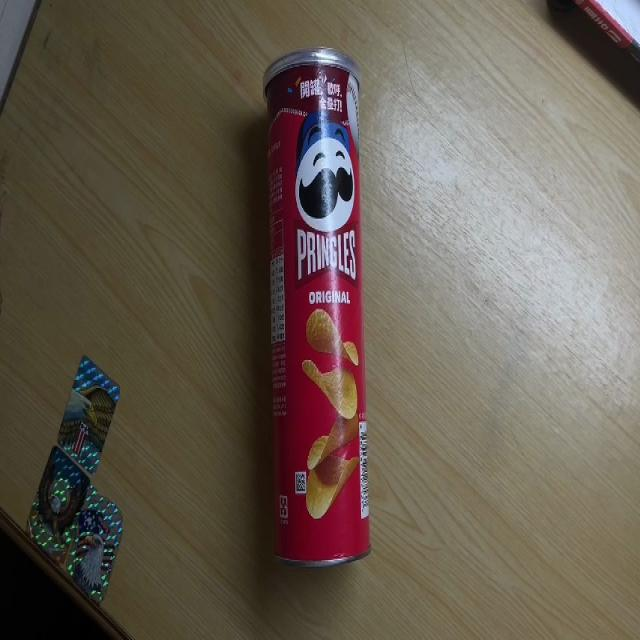Pringles: (259, 48, 373, 564)
